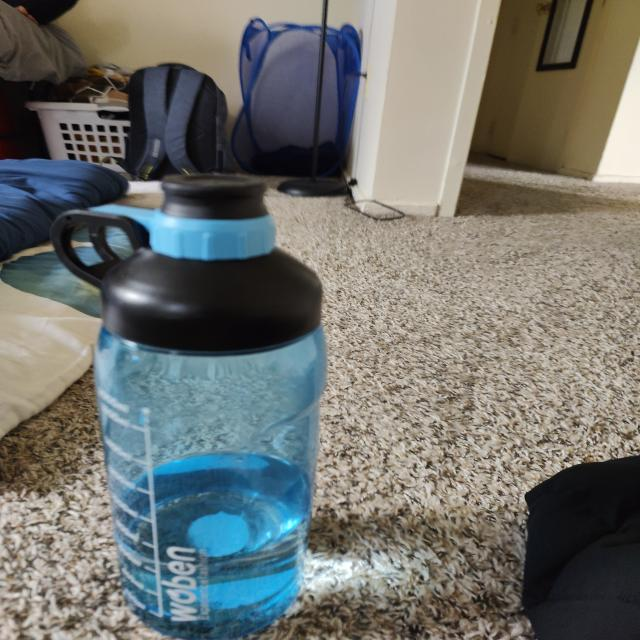bottle: (58, 182, 324, 640)
